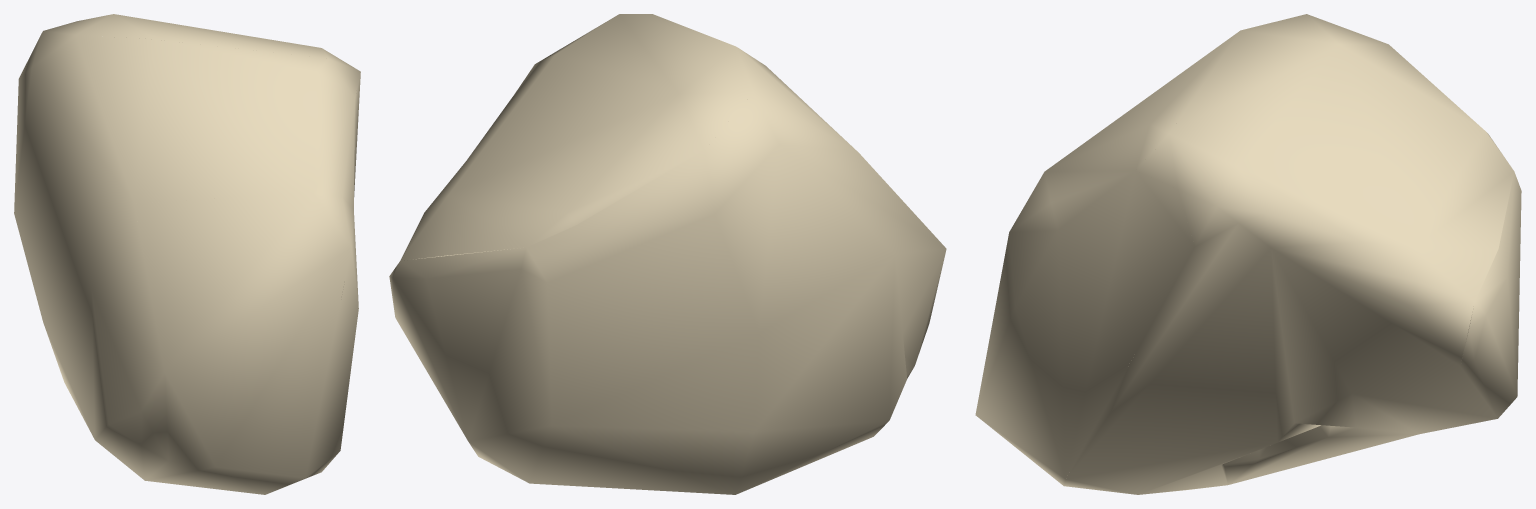
The model's file is esqueleto-triquetrum-bone-l.glb.
3 renders of one model, left to right at view 1: azimuth 30°, elevation 25°; view 2: azimuth 150°, elevation 25°; view 3: azimuth 270°, elevation 25°, orthographic. The views are drawn at different scales.
Visible parts, largest first — view 1: Triquetrum bone.l; view 2: Triquetrum bone.l; view 3: Triquetrum bone.l.
Part boxes in pixels (box(x1,y1,x2,y2)): Triquetrum bone.l: box(14, 14, 360, 494); Triquetrum bone.l: box(389, 14, 946, 494); Triquetrum bone.l: box(975, 14, 1521, 494).
Bounding box in the file's own units: 0.0111 × 0.0143 × 0.0159.
